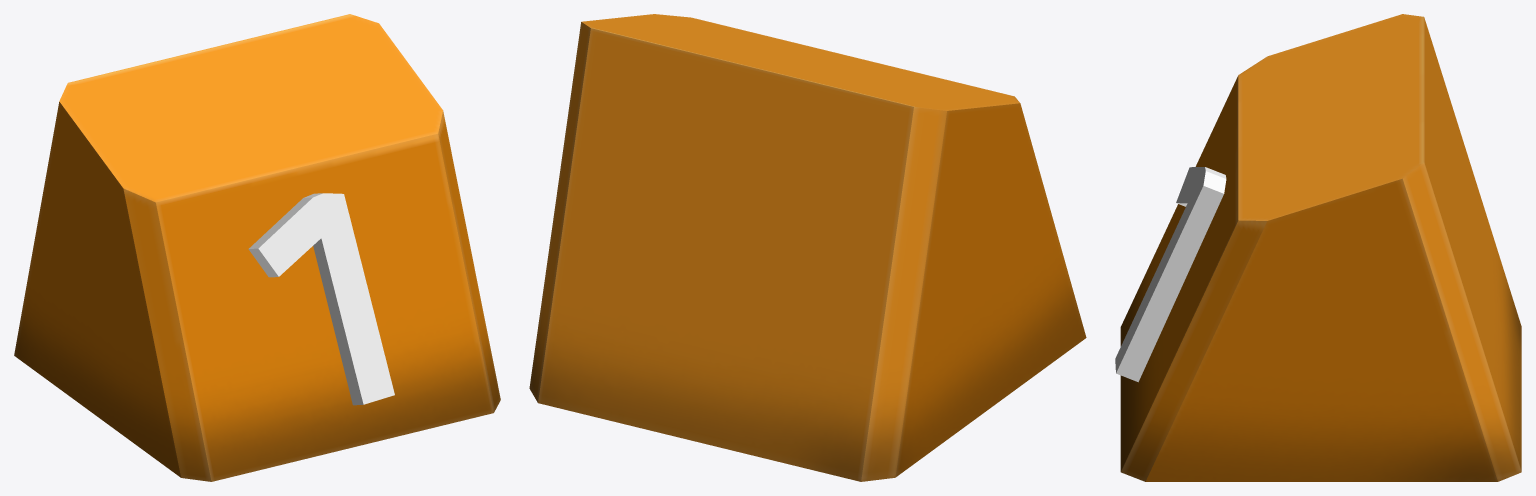
Rendered from hole1Mesh.FBX.
The picture shows the model from 3 angles, left to right: view 1: azimuth 30°, elevation 25°; view 2: azimuth 150°, elevation 25°; view 3: azimuth 270°, elevation 25°; orthographic projection. The views are drawn at different scales.
Visible parts, largest first — view 1: holeNumber1; view 2: holeNumber1; view 3: holeNumber1.
Part boxes in pixels (left/top/right/bottom): holeNumber1: left=14, top=14, right=500, bottom=481; holeNumber1: left=529, top=14, right=1086, bottom=481; holeNumber1: left=1115, top=14, right=1521, bottom=481.
Bounding box in the file's own units: 2026 × 1779 × 2114.
